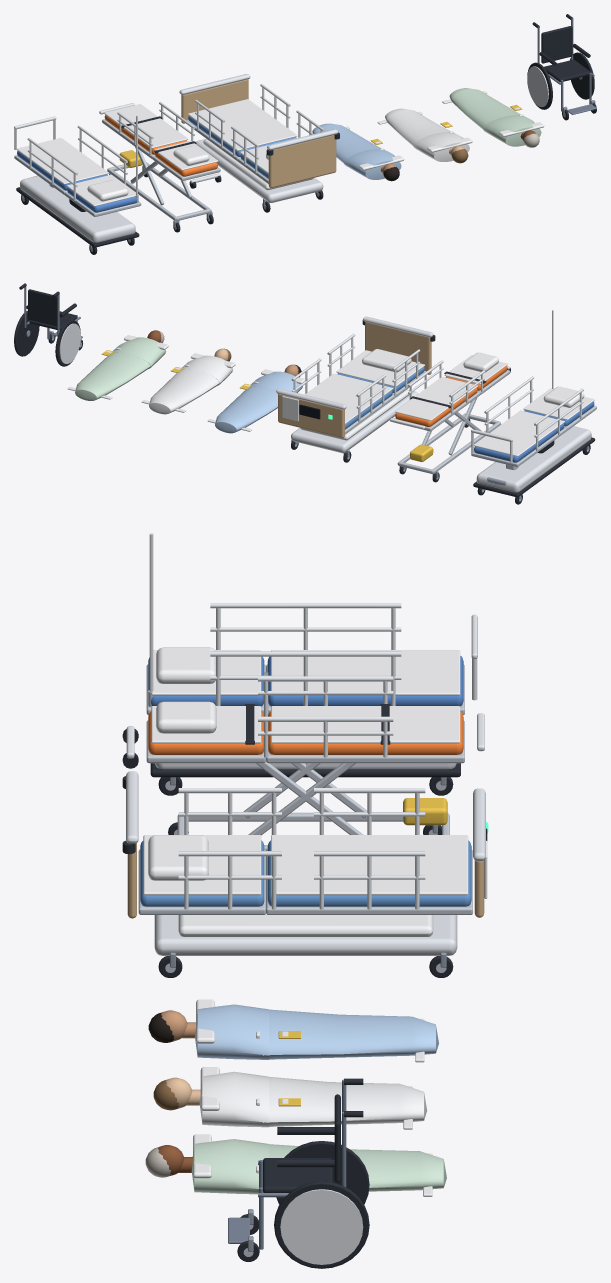
The model's file is beds.glb.
3 views of the same model, one above another, from view 1: azimuth 30°, elevation 25°; view 2: azimuth 150°, elevation 25°; view 3: azimuth 270°, elevation 25° (orthographic). The views are drawn at different scales.
Visible parts, largest first — view 1: bed_ward_frame, stretcher_ed_frame, stretcher_cot_frame, wheelchair_frame, stretcher_ed_backrest, stretcher_cot_backrest, patient_c_legs, patient_c_upper, patient_a_upper, patient_b_upper, patient_b_legs, patient_a_legs (+4 smaller); view 2: bed_ward_frame, stretcher_ed_frame, stretcher_cot_frame, bed_ward_backrest, patient_c_legs, patient_a_legs, patient_b_legs, wheelchair_frame, stretcher_ed_backrest, stretcher_cot_backrest, patient_c_upper, patient_b_upper (+4 smaller); view 3: bed_ward_frame, stretcher_cot_frame, stretcher_ed_frame, bed_ward_backrest, patient_a_legs, stretcher_cot_backrest, wheelchair_wheel_l, patient_b_legs, stretcher_ed_backrest, patient_a_upper, wheelchair_frame, patient_c_upper (+4 smaller).
Part boxes in pixels (<box>): bed_ward_frame: <box>179,74,339,202</box>; stretcher_ed_frame: <box>14,115,139,247</box>; stretcher_cot_frame: <box>99,102,221,220</box>; wheelchair_frame: <box>532,14,596,114</box>; stretcher_ed_backrest: <box>64,174,141,216</box>; stretcher_cot_backrest: <box>152,140,220,180</box>; patient_c_legs: <box>442,88,520,131</box>; patient_c_upper: <box>483,114,544,147</box>; patient_a_upper: <box>344,148,404,181</box>; patient_b_upper: <box>413,131,472,163</box>; patient_b_legs: <box>377,108,450,149</box>; patient_a_legs: <box>312,123,381,165</box>; bed_ward_frame: <box>276,316,435,453</box>; stretcher_ed_frame: <box>471,310,595,497</box>; stretcher_cot_frame: <box>390,360,510,473</box>; bed_ward_backrest: <box>336,349,426,397</box>; patient_c_legs: <box>67,352,152,400</box>; patient_a_legs: <box>207,386,277,433</box>; patient_b_legs: <box>141,369,221,414</box>; wheelchair_frame: <box>19,283,82,339</box>; stretcher_ed_backrest: <box>523,386,596,430</box>; stretcher_cot_backrest: <box>444,352,509,394</box>; patient_c_upper: <box>113,330,168,368</box>; patient_b_upper: <box>182,348,235,385</box>; bed_ward_frame: <box>122,771,487,955</box>; stretcher_cot_frame: <box>122,676,484,850</box>; stretcher_ed_frame: <box>148,533,477,777</box>; bed_ward_backrest: <box>138,835,265,914</box>; patient_a_legs: <box>263,1009,438,1062</box>; stretcher_cot_backrest: <box>146,701,265,763</box>; wheelchair_wheel_l: <box>274,1181,369,1268</box>; patient_b_legs: <box>263,1077,427,1129</box>; stretcher_ed_backrest: <box>146,647,265,715</box>; patient_a_upper: <box>148,999,269,1059</box>; wheelchair_frame: <box>228,1078,363,1249</box>; patient_c_upper: <box>145,1134,269,1194</box>.
Bounding box in the file's own units: 7.71 × 1.85 × 2.29.
